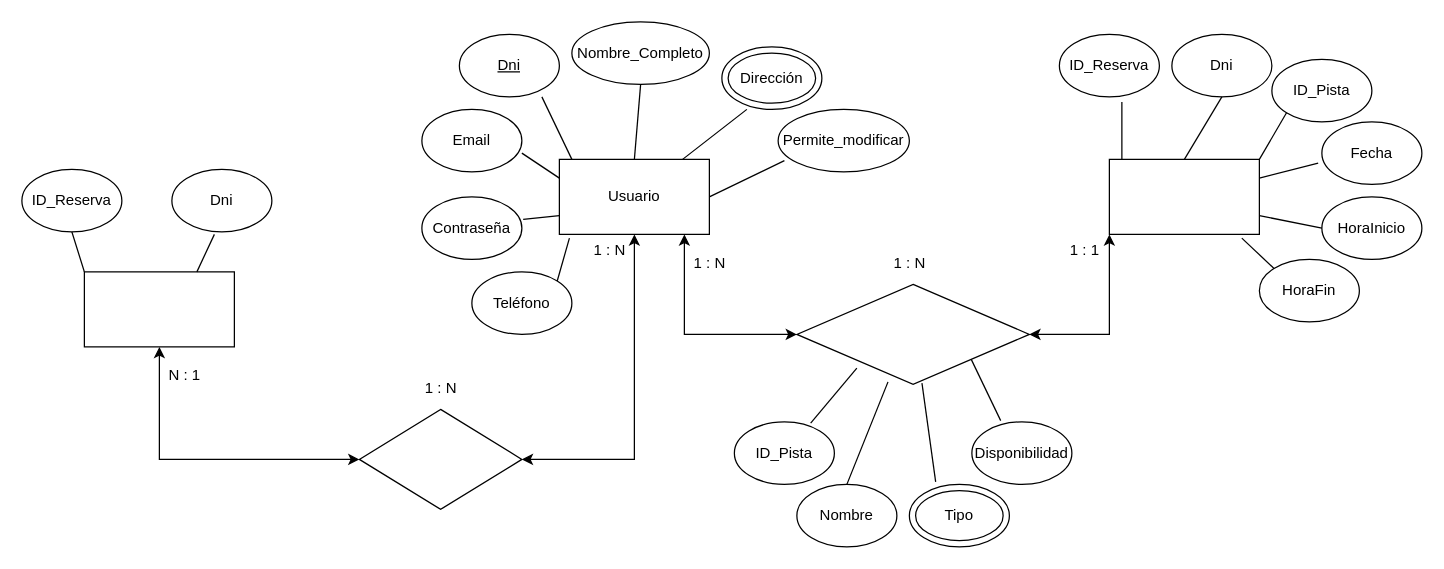
The diagram is 1444 pixels wide and 569 high, and some of its shapes have lost their labels. The box of each missing label's shape, as (x1, y1, x2, y2) in pixels:
Comprueba: (358, 408, 522, 509)
Pista: (1108, 158, 1259, 234)
Reserva: (796, 283, 1029, 384)
ReservaUsuario: (83, 271, 234, 347)
